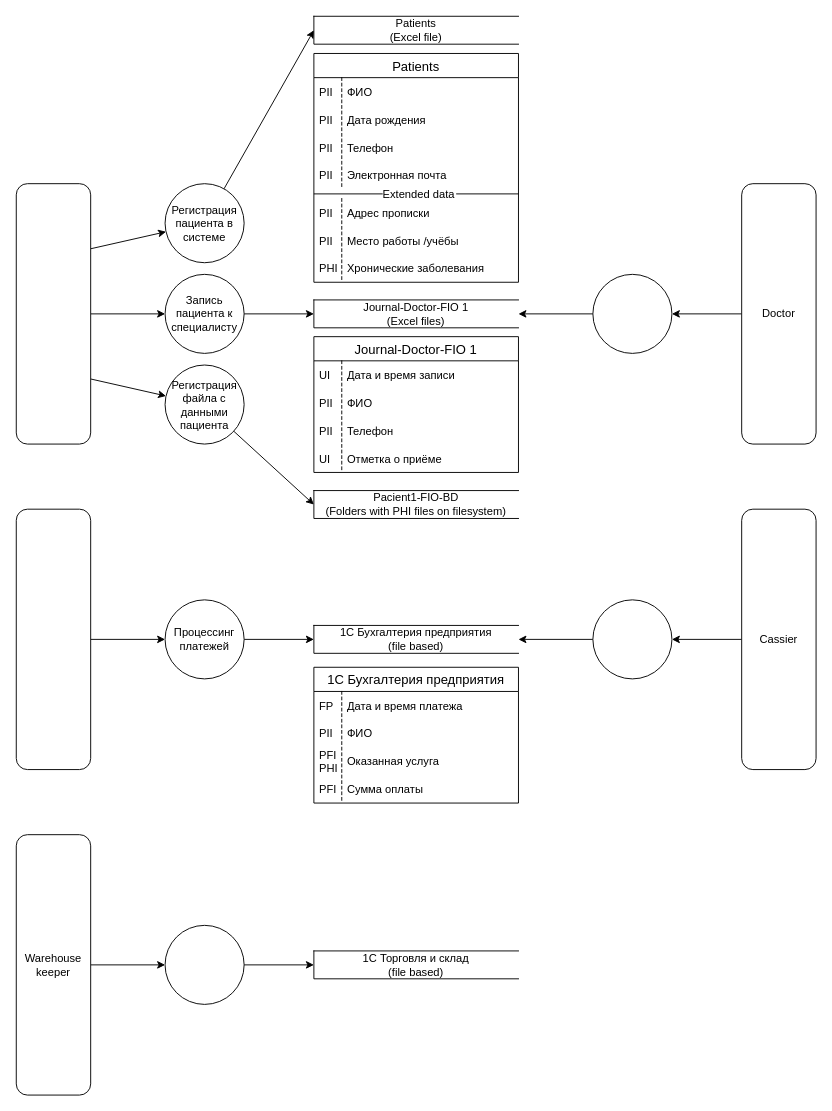
This 832x1111 diagram has some shape labels left out. The shapes that lost their labels are listed below. From the top down, each one's centre as x and y in pixels, then its label:
the point at 53,313: Administrator
the point at 632,313: Просмотр и редактирование своего журнала
the point at 53,639: Bookkeeper
the point at 632,639: Принятие оплаты
the point at 204,964: Учет ТМЦ
